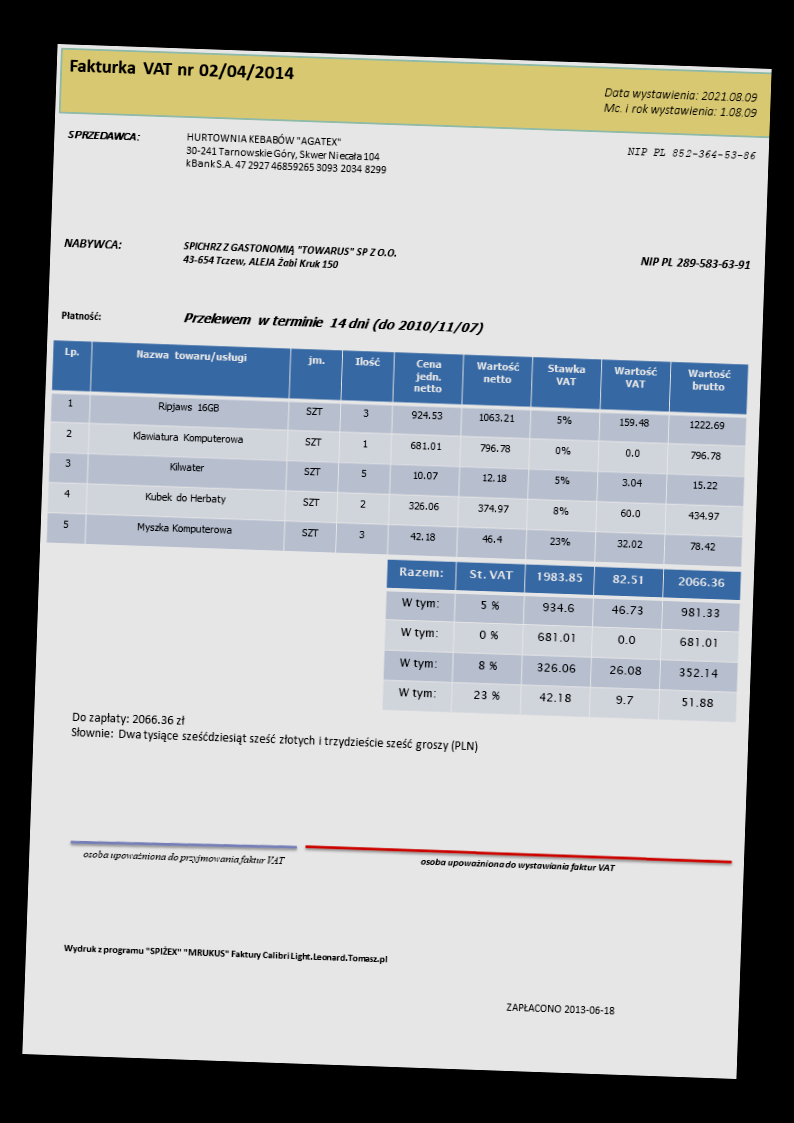Table: (45, 338, 749, 568), (381, 557, 742, 723)
TextBox: (68, 709, 480, 756), (183, 129, 389, 175), (180, 309, 486, 338), (62, 941, 391, 966), (180, 237, 398, 273), (67, 56, 296, 84), (602, 85, 761, 121), (80, 847, 287, 868), (420, 855, 616, 876), (624, 143, 758, 163), (639, 254, 753, 272), (504, 1000, 618, 1016), (66, 126, 141, 142), (60, 234, 125, 252), (58, 308, 103, 322)
